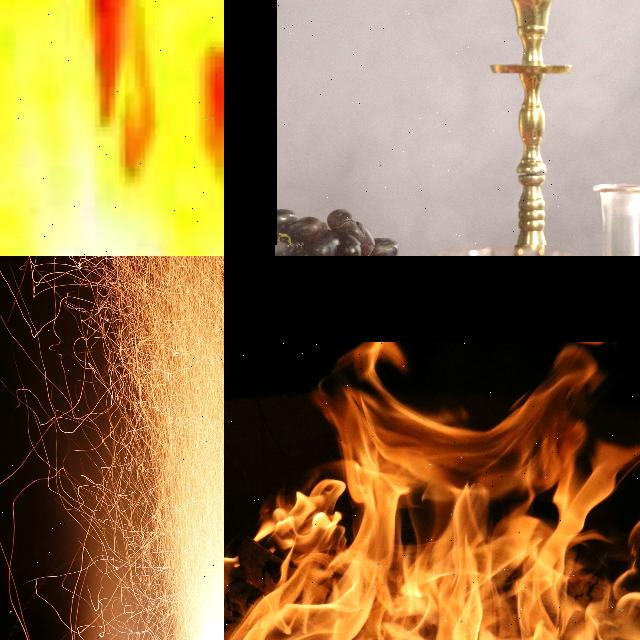fire: (227, 343, 640, 640), (32, 256, 224, 640), (0, 0, 224, 256)
smoke: (276, 0, 515, 245)
